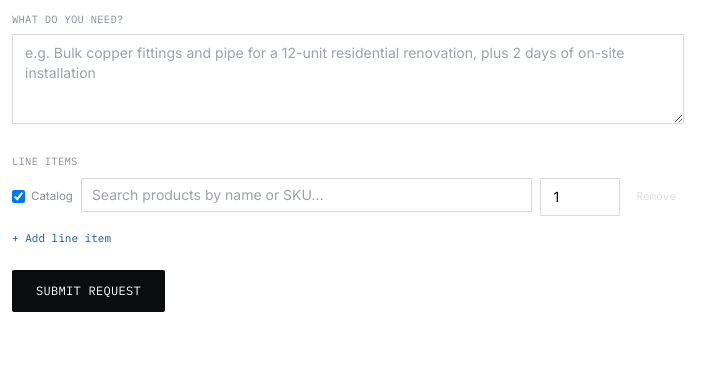
Scenario: QuoteRequestForm › adding a row makes every Remove button enabled, including for the original row
Click the button "+ Add line item" at x=62, y=238, box [12,230,111,246]
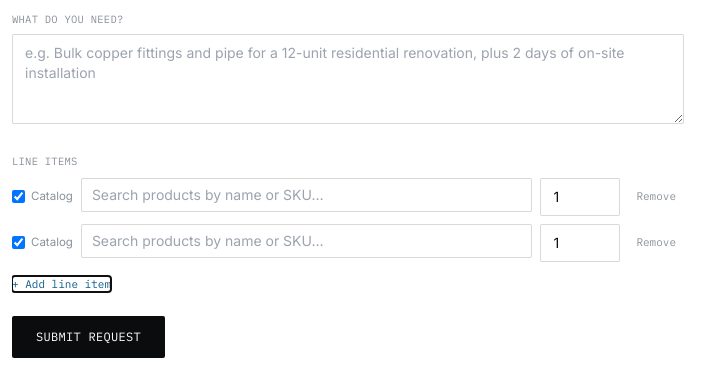
Check: the number of buttons "Remove" is 2, box [628,178,684,214]; [628,224,684,260]
Check: the 1st button "Remove" is enabled, box [628,178,684,214]
Check: the 2nd button "Remove" is enabled, box [628,224,684,260]
